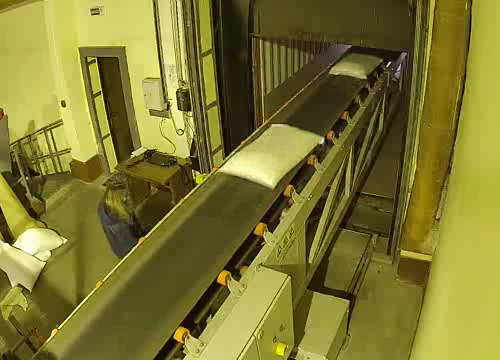bag: (216, 121, 321, 191), (327, 50, 384, 79)
